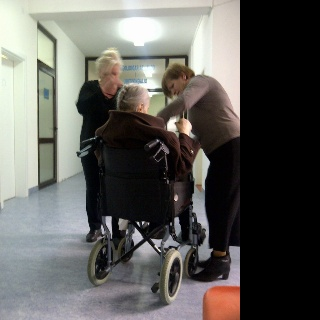without_mask: (165, 79, 184, 96), (102, 64, 120, 79)
